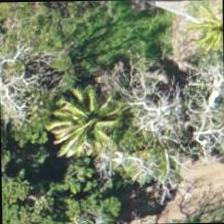Kelapa_Sawit: (35, 76, 127, 168), (166, 0, 223, 89)
